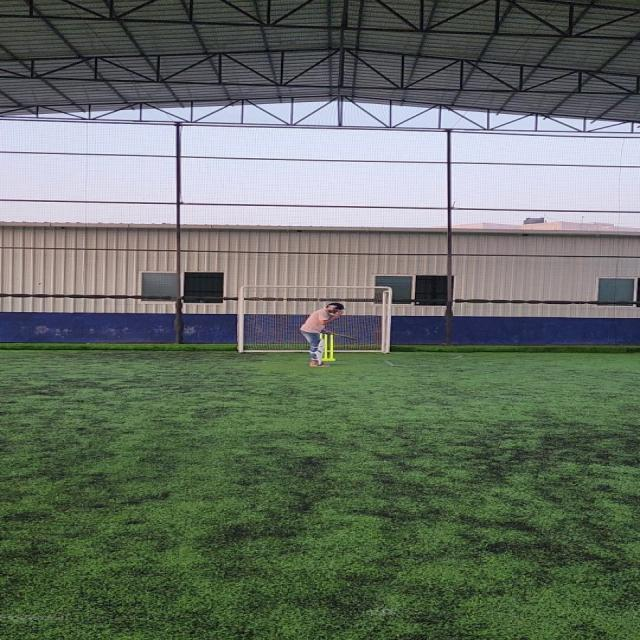stump: (322, 334, 337, 361)
